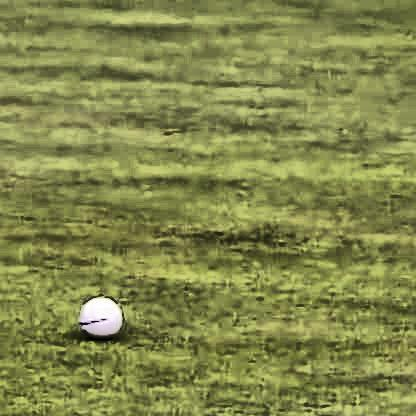golfball: (77, 294, 121, 336)
